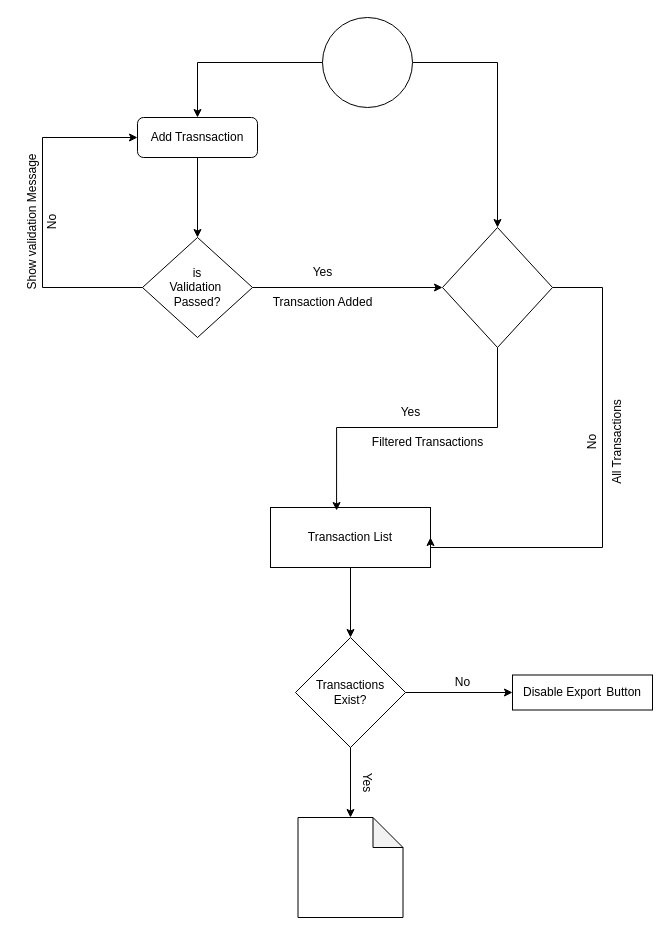
The diagram is 670 pixels wide and 935 high, and some of its shapes have lost their labels. Each missing label, with the box of its shape:
End User: (322, 16, 412, 108)
Month Date Filter Applied?: (442, 226, 552, 348)
Transaction.csv: (297, 816, 403, 918)
